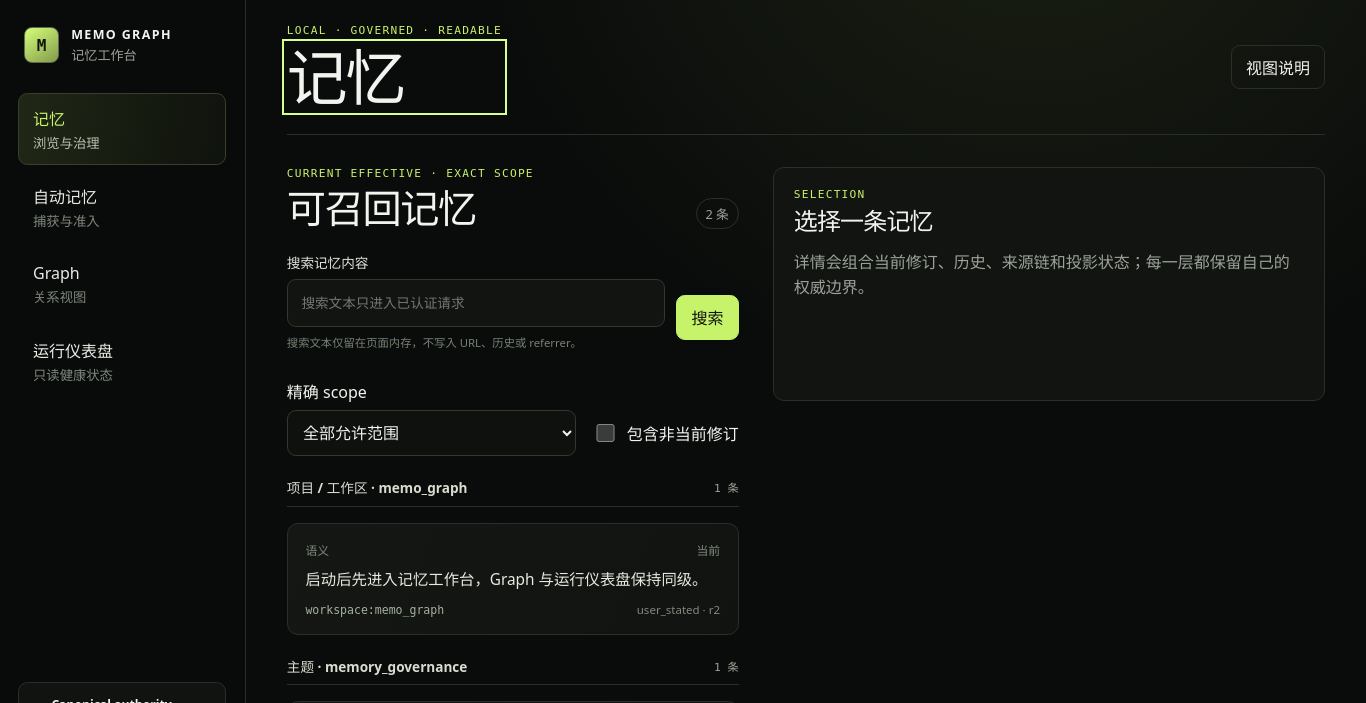
sealed correction experience › requires a reason and explicit preview while cancel remains write-free
Check: the text "启动后先进入记忆工作台，Graph 与运行仪表盘保持同级。" is shown, box [305,568,720,592]
Click the button "启动后先进入记忆工作台，Graph 与运行仪表盘保持同级。" at (513, 579), box [288,524,738,634]
(page scrolled)
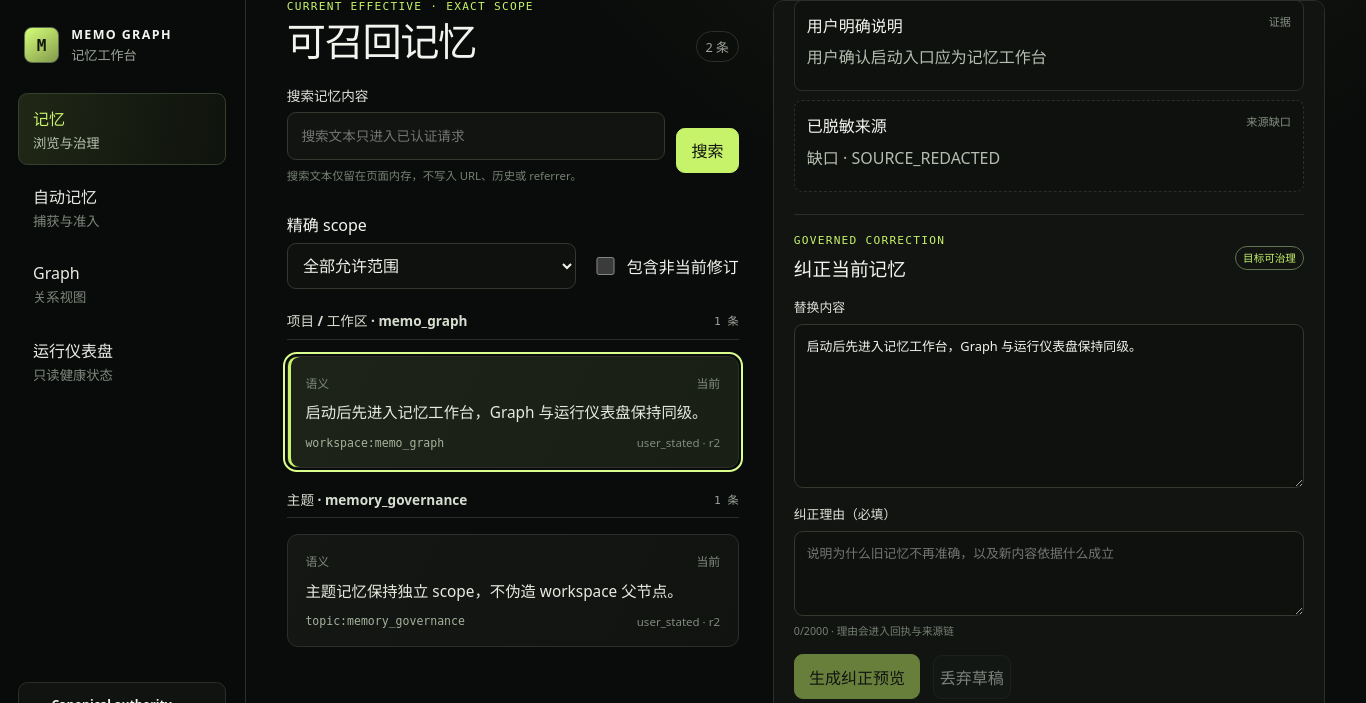
Check: the heading "纠正当前记忆" is shown, box [794,256,906,281]
Replace the text in the text box labelled "替换内容" with "只有替换内容，没有理由" at (1049, 406), box [794,324,1304,488]
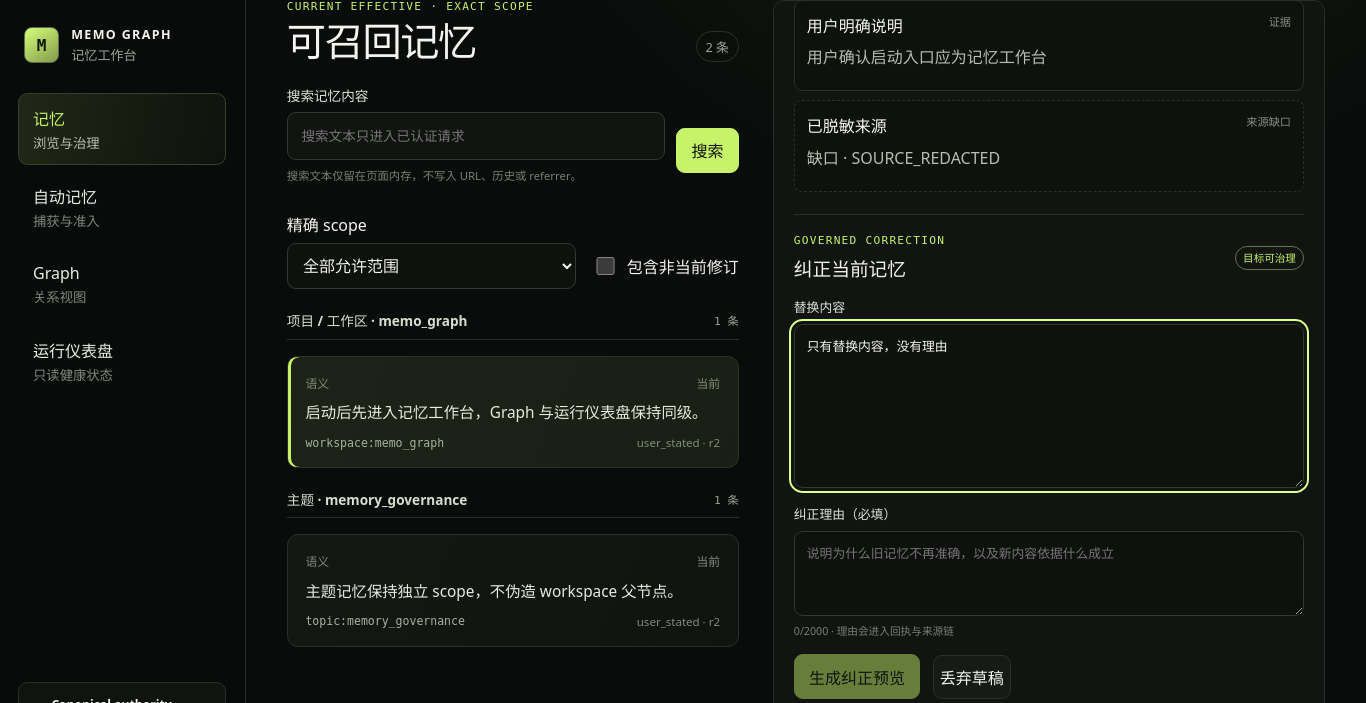
Check: the button "生成纠正预览" is disabled, box [794,654,920,699]
Click the button "丢弃草稿" at (972, 676), box [933,654,1011,698]
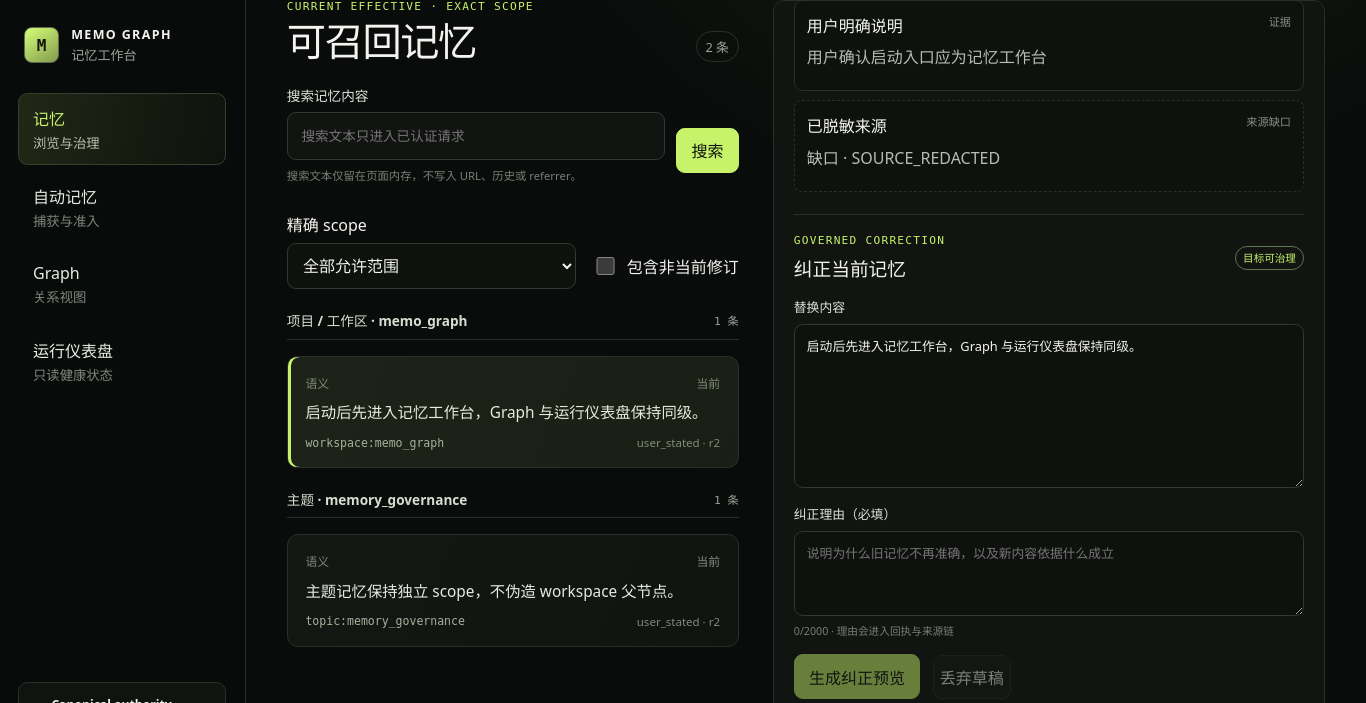
Check: the text box labelled "替换内容" holds "启动后先进入记忆工作台，Graph 与运行仪表盘保持同级。", box [794,324,1304,488]
